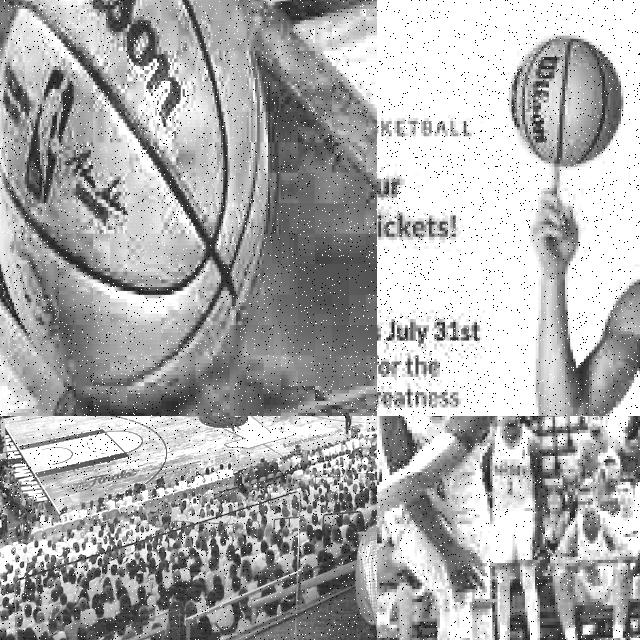Basketball: (0, 0, 268, 411)
